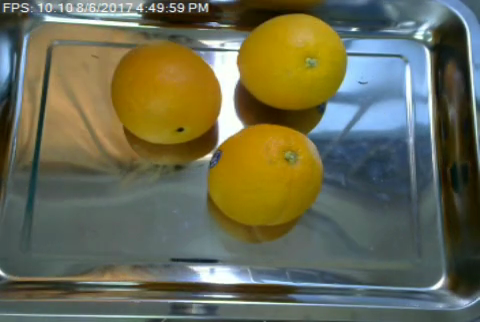Orange: (207, 124, 324, 226), (111, 40, 222, 144), (237, 14, 349, 109)
